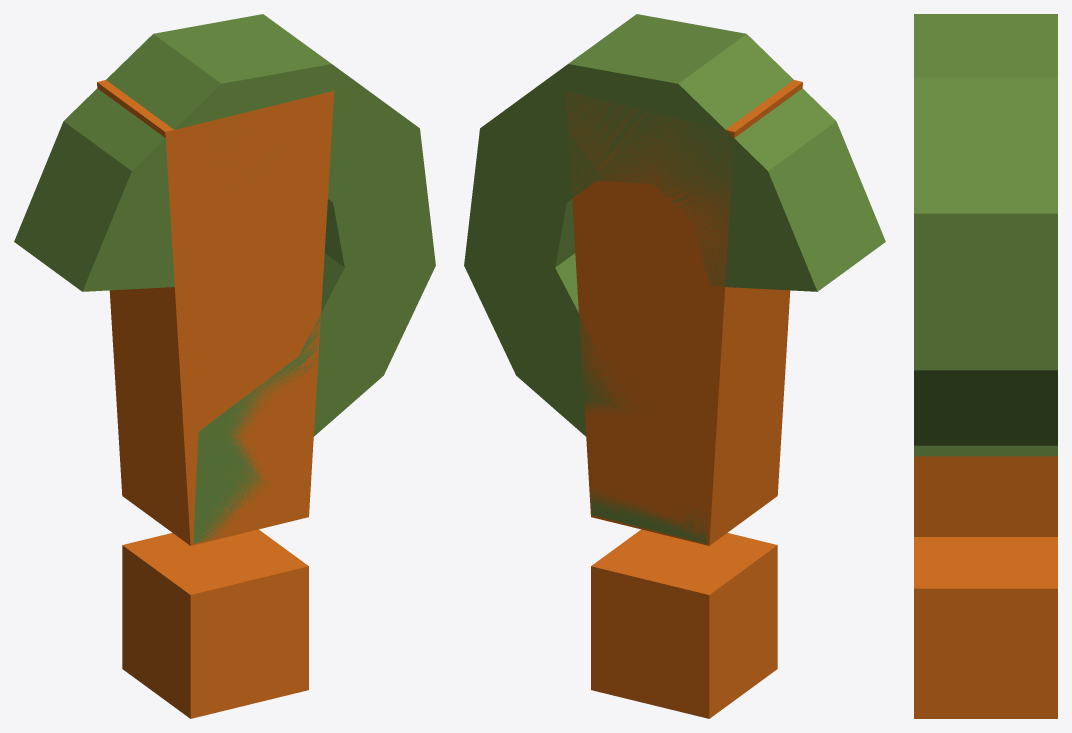
File: questSymbols.fbx
3 views of the same model, side by side, from view 1: azimuth 30°, elevation 25°; view 2: azimuth 150°, elevation 25°; view 3: azimuth 270°, elevation 25° (orthographic). The views are drawn at different scales.
Parts seen in each view (by area): view 1: newQuest, finishQuest; view 2: newQuest, finishQuest; view 3: finishQuest, newQuest.
Part boxes in pixels (x1,y1,x2,y2): newQuest: [97, 80, 334, 718]; finishQuest: [14, 14, 435, 543]; newQuest: [566, 80, 802, 718]; finishQuest: [464, 14, 885, 543]; finishQuest: [914, 14, 1057, 456]; newQuest: [914, 456, 1057, 718].
Bounding box in the file's own units: 43.26 × 73.39 × 14.49.
